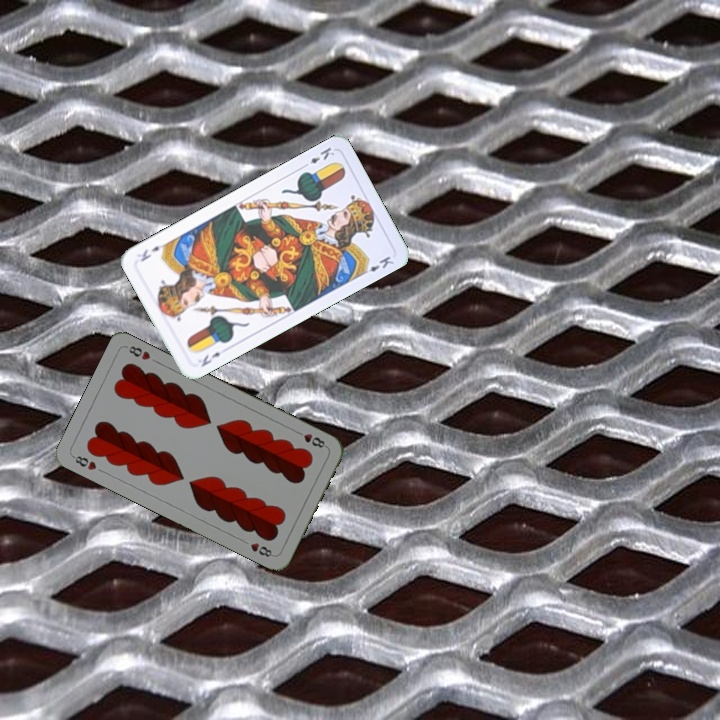EK: (298, 143, 337, 171), (197, 348, 223, 370)
H8: (291, 427, 329, 451), (69, 451, 99, 473)
